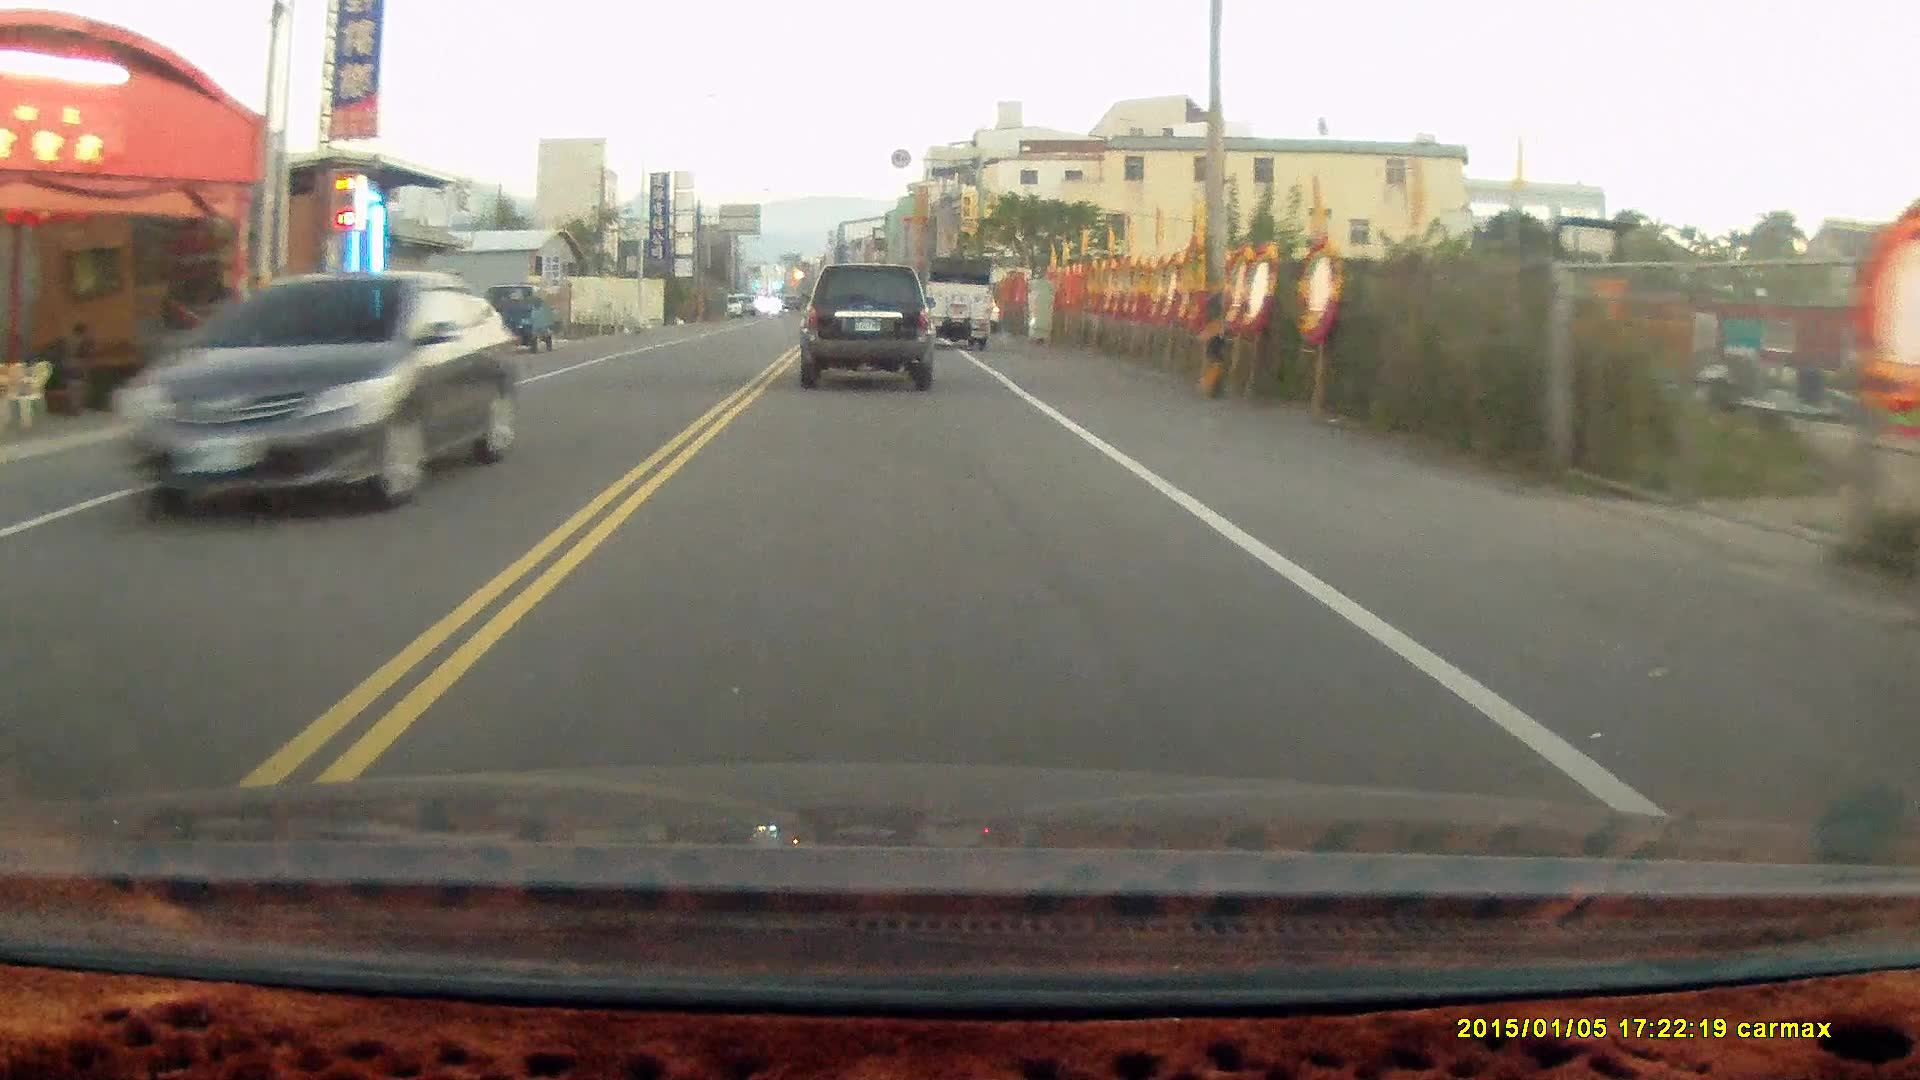vehicle: (94, 274, 502, 522), (800, 264, 938, 394), (924, 256, 998, 351)
